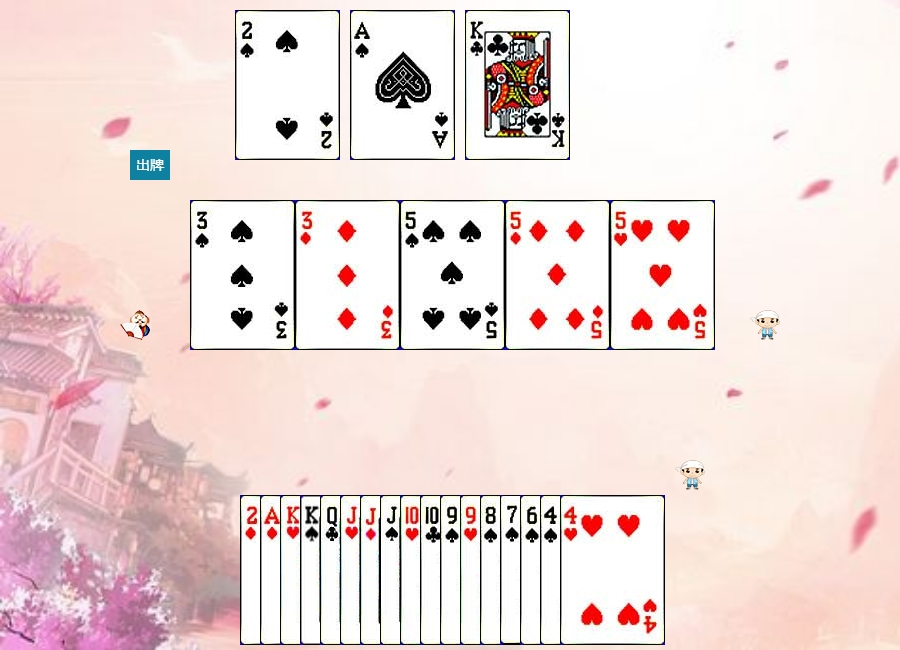10~2: (420, 495, 525, 645)
10~3: (400, 495, 505, 645)
11~1: (360, 495, 465, 645)
11~3: (340, 495, 445, 645)
11~4: (380, 495, 485, 645)
12~2: (320, 495, 425, 645)
13~2: (465, 10, 570, 160)
13~3: (280, 495, 385, 645)
13~4: (300, 495, 405, 645)
14~1: (260, 495, 365, 645)
14~4: (350, 10, 455, 160)
15~1: (240, 495, 345, 645)
15~4: (235, 10, 340, 160)
3~1: (295, 200, 400, 350)
3~4: (190, 200, 295, 350)
4~3: (560, 495, 665, 645)
4~4: (540, 495, 645, 645)
5~1: (505, 200, 610, 350)
5~3: (610, 200, 715, 350)
5~4: (400, 200, 505, 350)
6~4: (520, 495, 625, 645)
7~4: (500, 495, 605, 645)
8~4: (480, 495, 585, 645)
9~3: (460, 495, 565, 645)
9~4: (440, 495, 545, 645)
